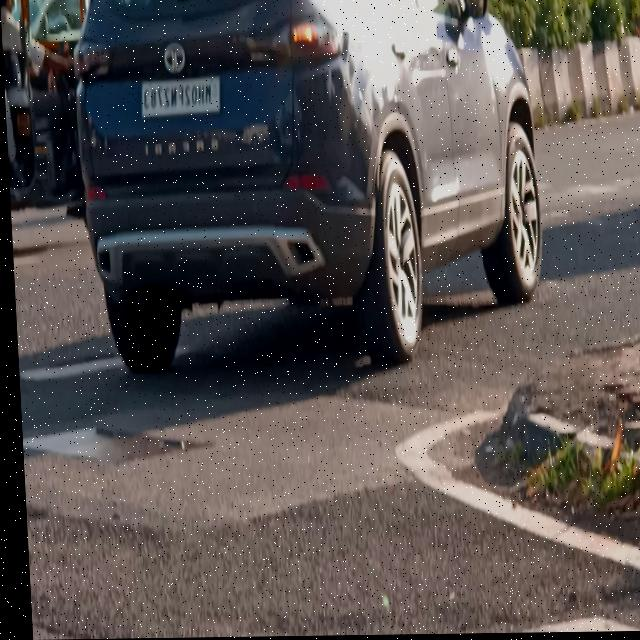plate: (138, 74, 222, 119)
